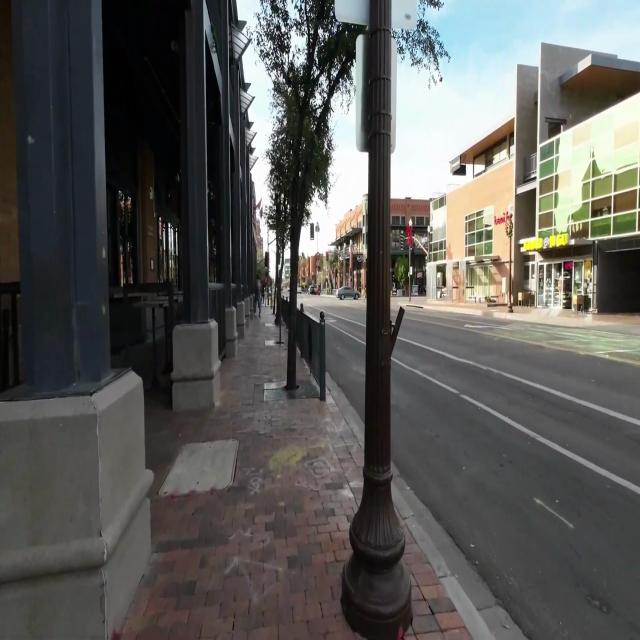road: (390, 297, 640, 639), (300, 296, 366, 444)
side walk: (118, 318, 364, 639)
street sign: (346, 0, 408, 637)
